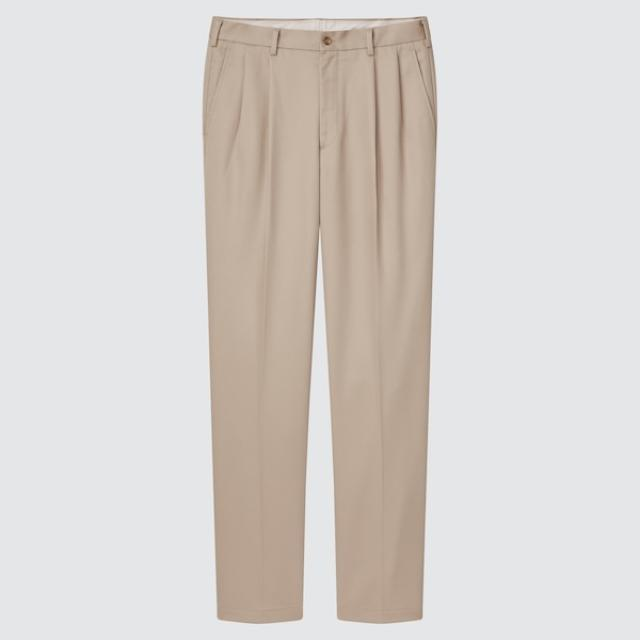long-pants: (203, 16, 439, 628)
